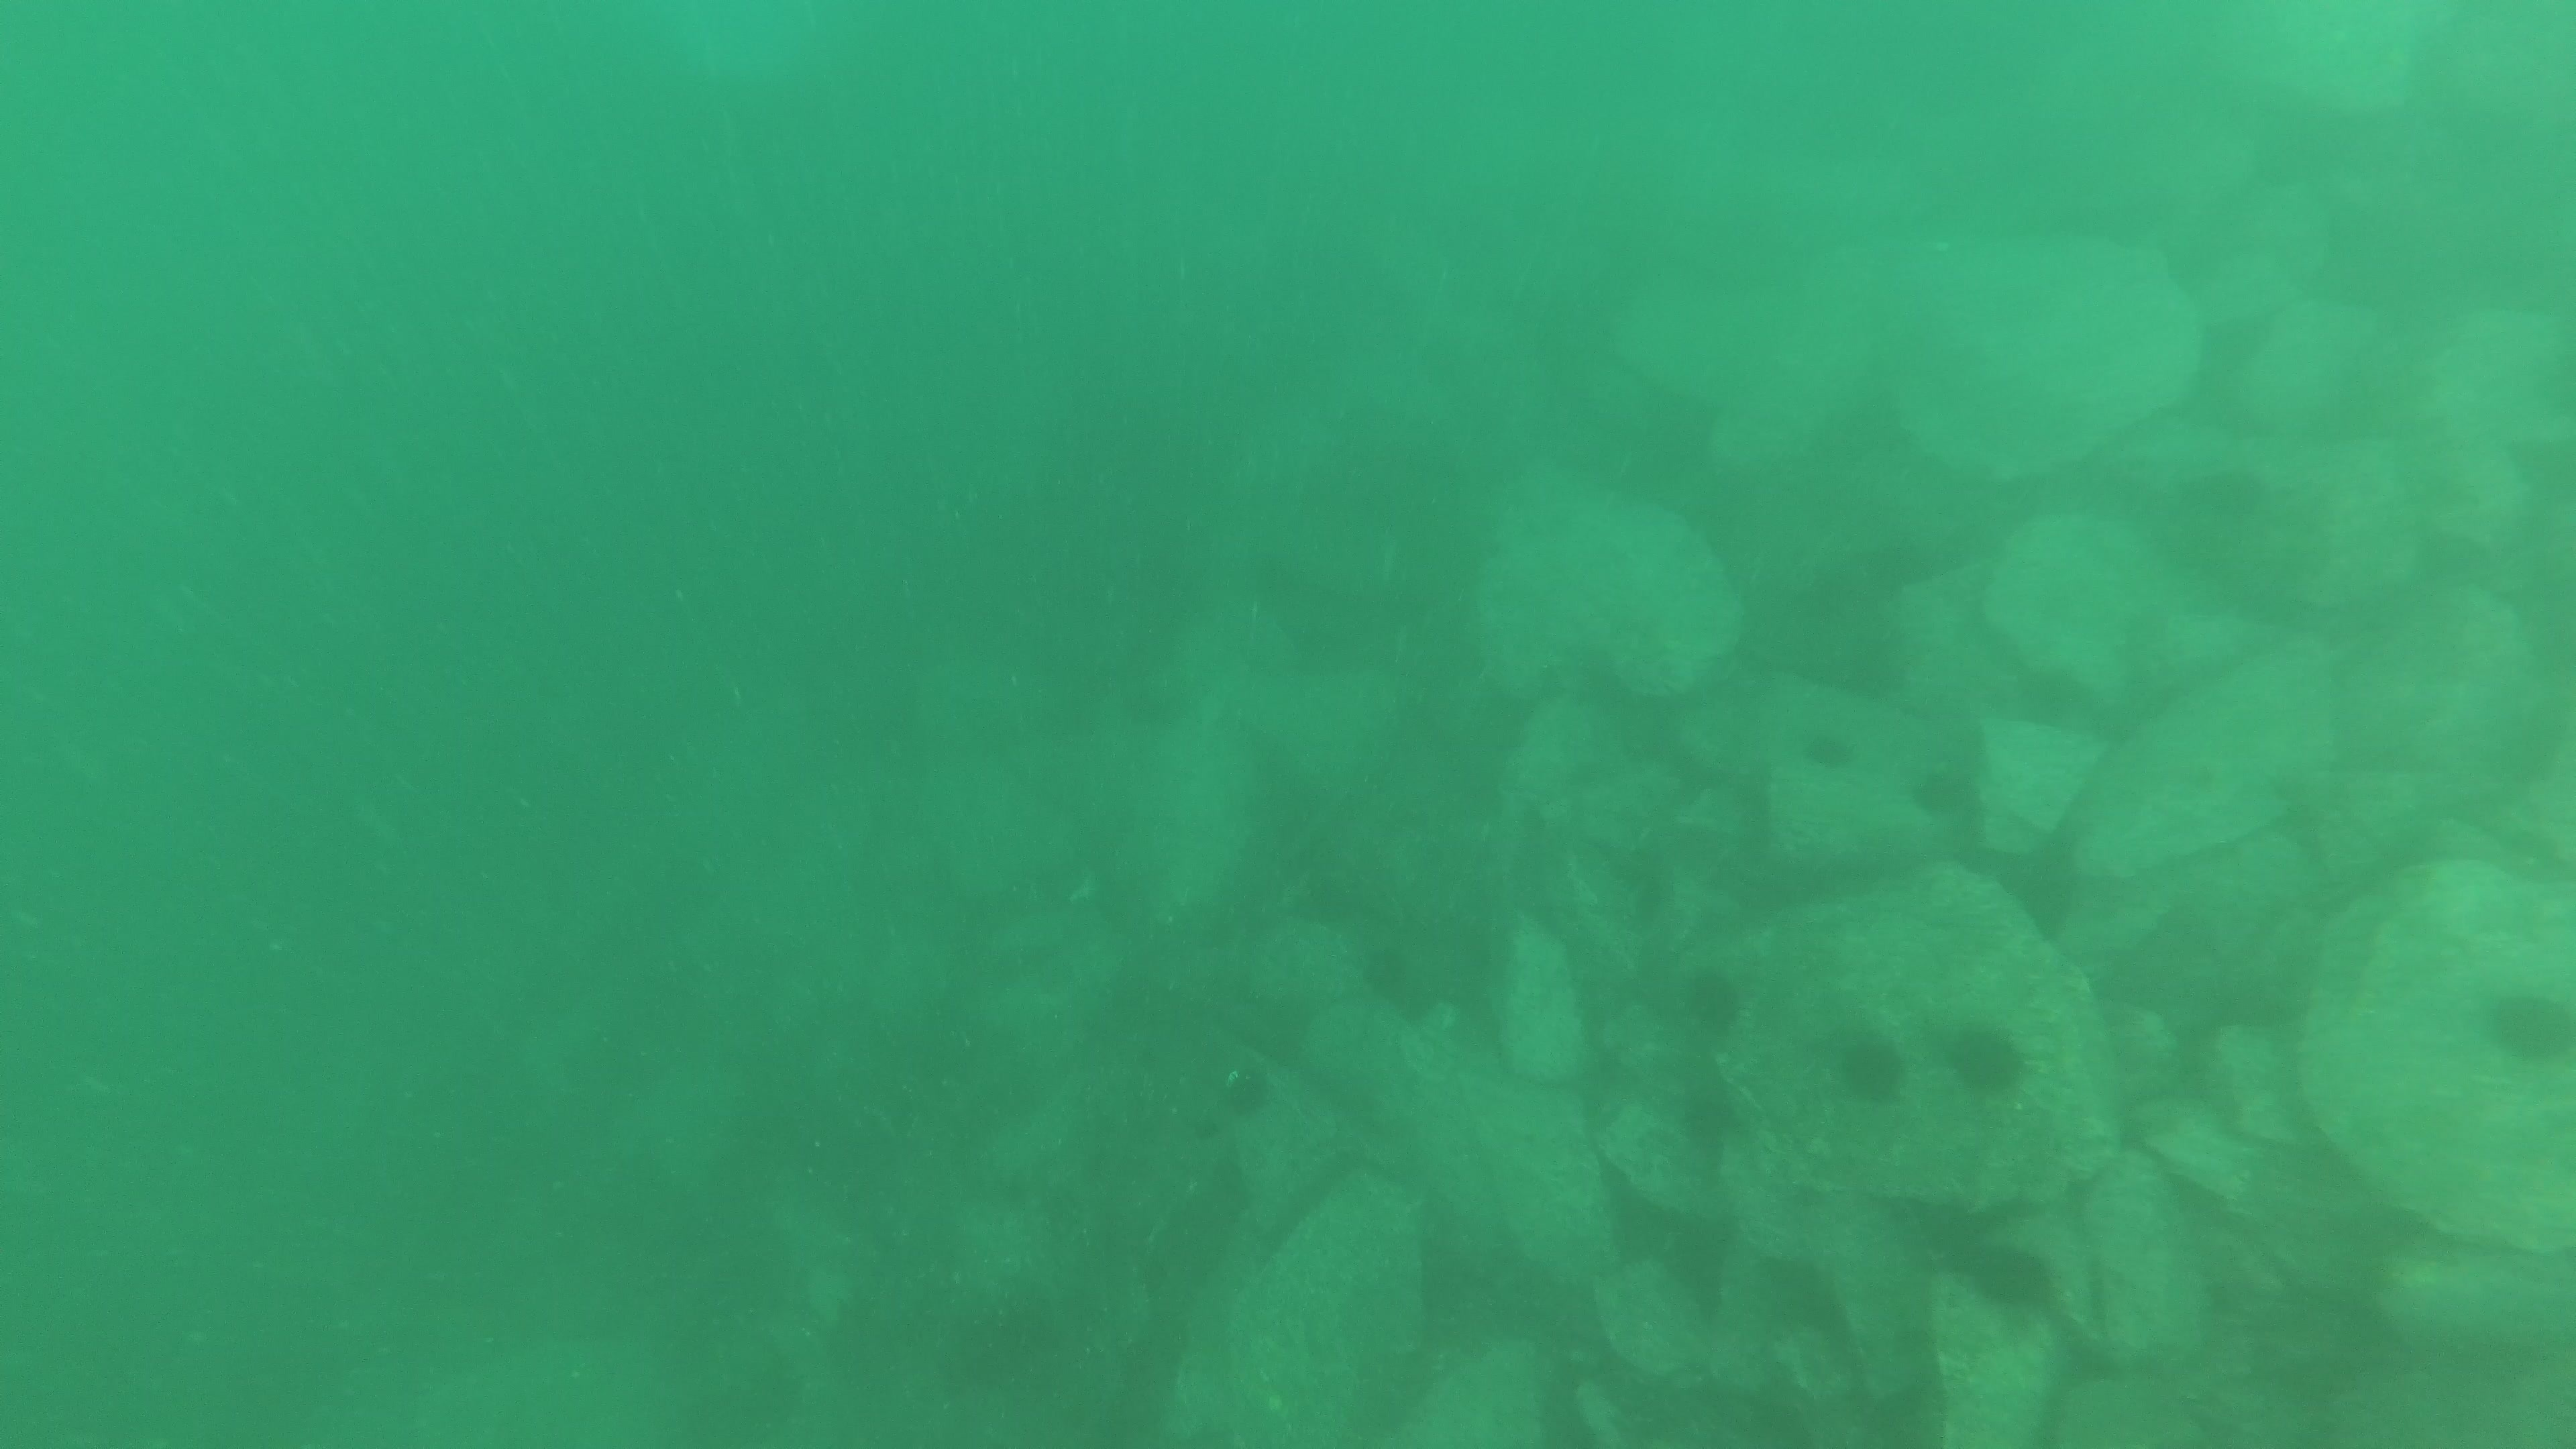echinus: (2477, 977, 2572, 1070), (1941, 1014, 2035, 1104), (1962, 1235, 2058, 1318), (1826, 1024, 1911, 1111), (1672, 959, 1748, 1047), (1905, 757, 1980, 824), (1215, 1053, 1277, 1122), (1798, 720, 1859, 777)
